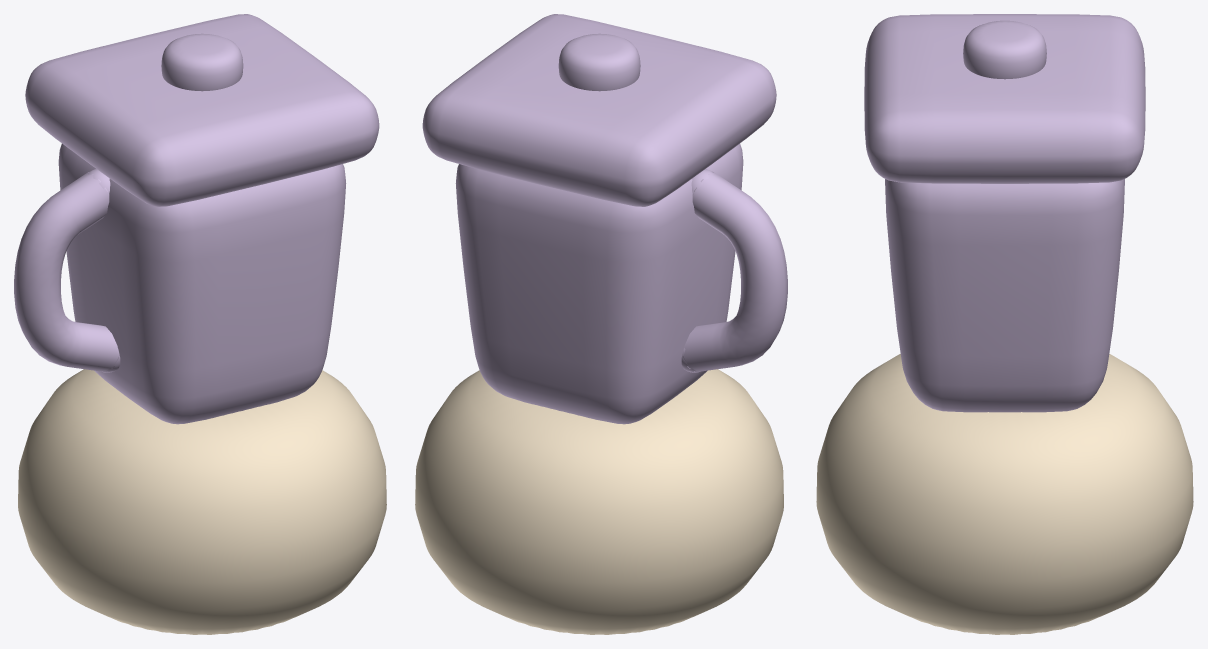
File: blender_c.glb
3 renders of one model, left to right at view 1: azimuth 30°, elevation 25°; view 2: azimuth 150°, elevation 25°; view 3: azimuth 270°, elevation 25°, orthographic. The views are drawn at different scales.
Parts seen in each view (by area): view 1: body; view 2: body; view 3: body.
Part boxes in pixels (bbox=[...]): body: bbox=[14, 14, 386, 634]; body: bbox=[415, 14, 787, 634]; body: bbox=[816, 14, 1193, 634].
Bounding box in the file's own units: 0.272 × 0.412 × 0.252.
